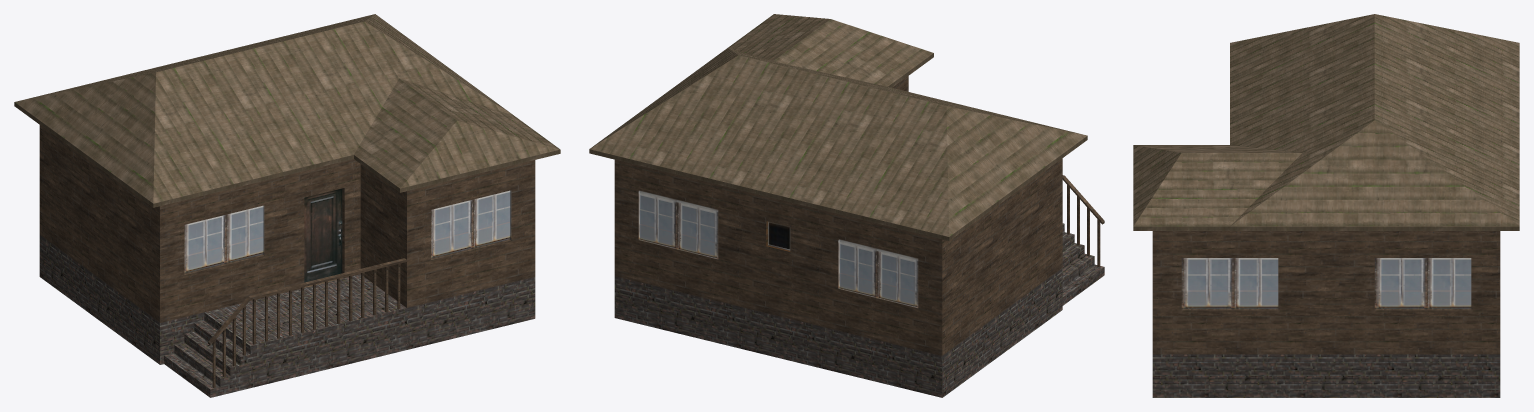
The model's file is house2_tex2.glb.
The picture shows the model from 3 angles, left to right: view 1: azimuth 30°, elevation 25°; view 2: azimuth 150°, elevation 25°; view 3: azimuth 270°, elevation 25°; orthographic projection. The views are drawn at different scales.
Parts seen in each view (by area): view 1: house2, house2_windows, house2_door1; view 2: house2, house2_windows; view 3: house2, house2_windows.
Part boxes in pixels (x1,y1,x2,y2): house2: (14, 14, 560, 397); house2_windows: (184, 190, 511, 274); house2_door1: (304, 188, 342, 282); house2: (589, 14, 1104, 397); house2_windows: (638, 190, 918, 308); house2: (1133, 14, 1519, 397); house2_windows: (1181, 258, 1471, 310).
Size of the model in its own units: 9 by 5.6 by 8.
Materials: 1 (1 with a texture image).
